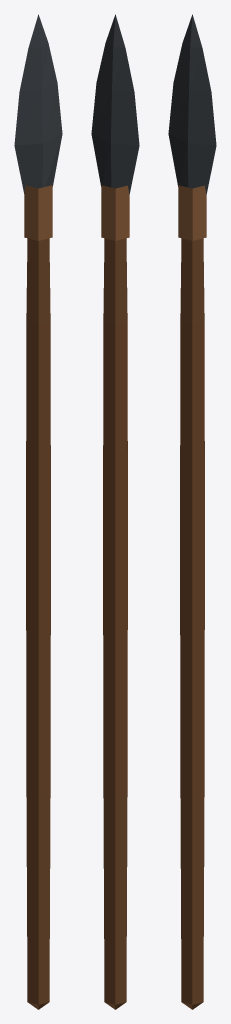
File: tool_spear.obj
3 renders of one model, left to right at view 1: azimuth 30°, elevation 25°; view 2: azimuth 150°, elevation 25°; view 3: azimuth 330°, elevation 25°, orthographic.
Parts seen in each view (by area): view 1: tool_spear; view 2: tool_spear; view 3: tool_spear.
Part boxes in pixels (bbox=[...]): tool_spear: bbox=[14, 14, 62, 1009]; tool_spear: bbox=[91, 14, 139, 1009]; tool_spear: bbox=[168, 14, 216, 1009].
Bounding box in the file's own units: 0.096 × 1.9 × 0.0484.
